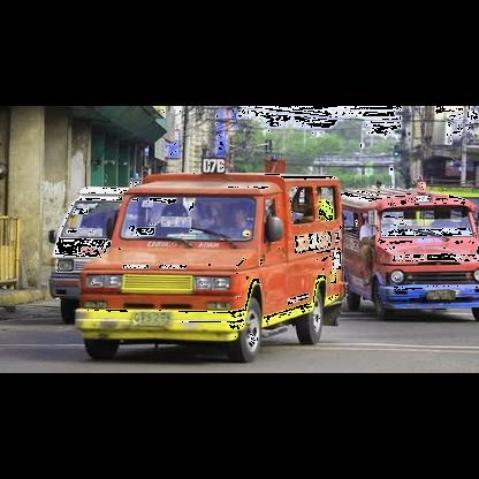jeepney: (81, 161, 347, 364), (333, 186, 479, 324)
